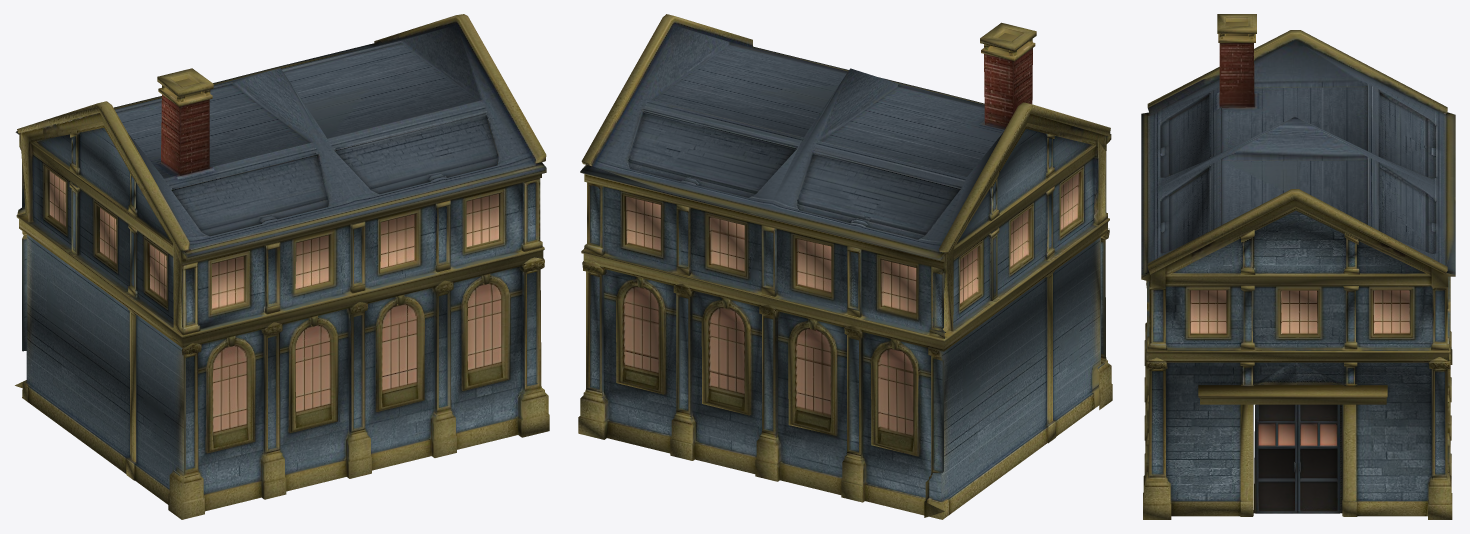
The model's file is tripo_convert_abeb06bd-ea13-47fc-a898-07815a5cdfdd.fbx.
3 views of the same model, side by side, from view 1: azimuth 30°, elevation 25°; view 2: azimuth 150°, elevation 25°; view 3: azimuth 270°, elevation 25° (orthographic). The views are drawn at different scales.
Parts seen in each view (by area): view 1: tripo_node_abeb06bd; view 2: tripo_node_abeb06bd; view 3: tripo_node_abeb06bd.
Boxes of the visible parts, left/top/right/bottom form: tripo_node_abeb06bd: left=15, top=14, right=549, bottom=519; tripo_node_abeb06bd: left=578, top=14, right=1112, bottom=519; tripo_node_abeb06bd: left=1141, top=14, right=1455, bottom=519.
Bounding box in the file's own units: 0.998 × 0.9746 × 0.7754.
Materials: 1 (1 with a texture image).
